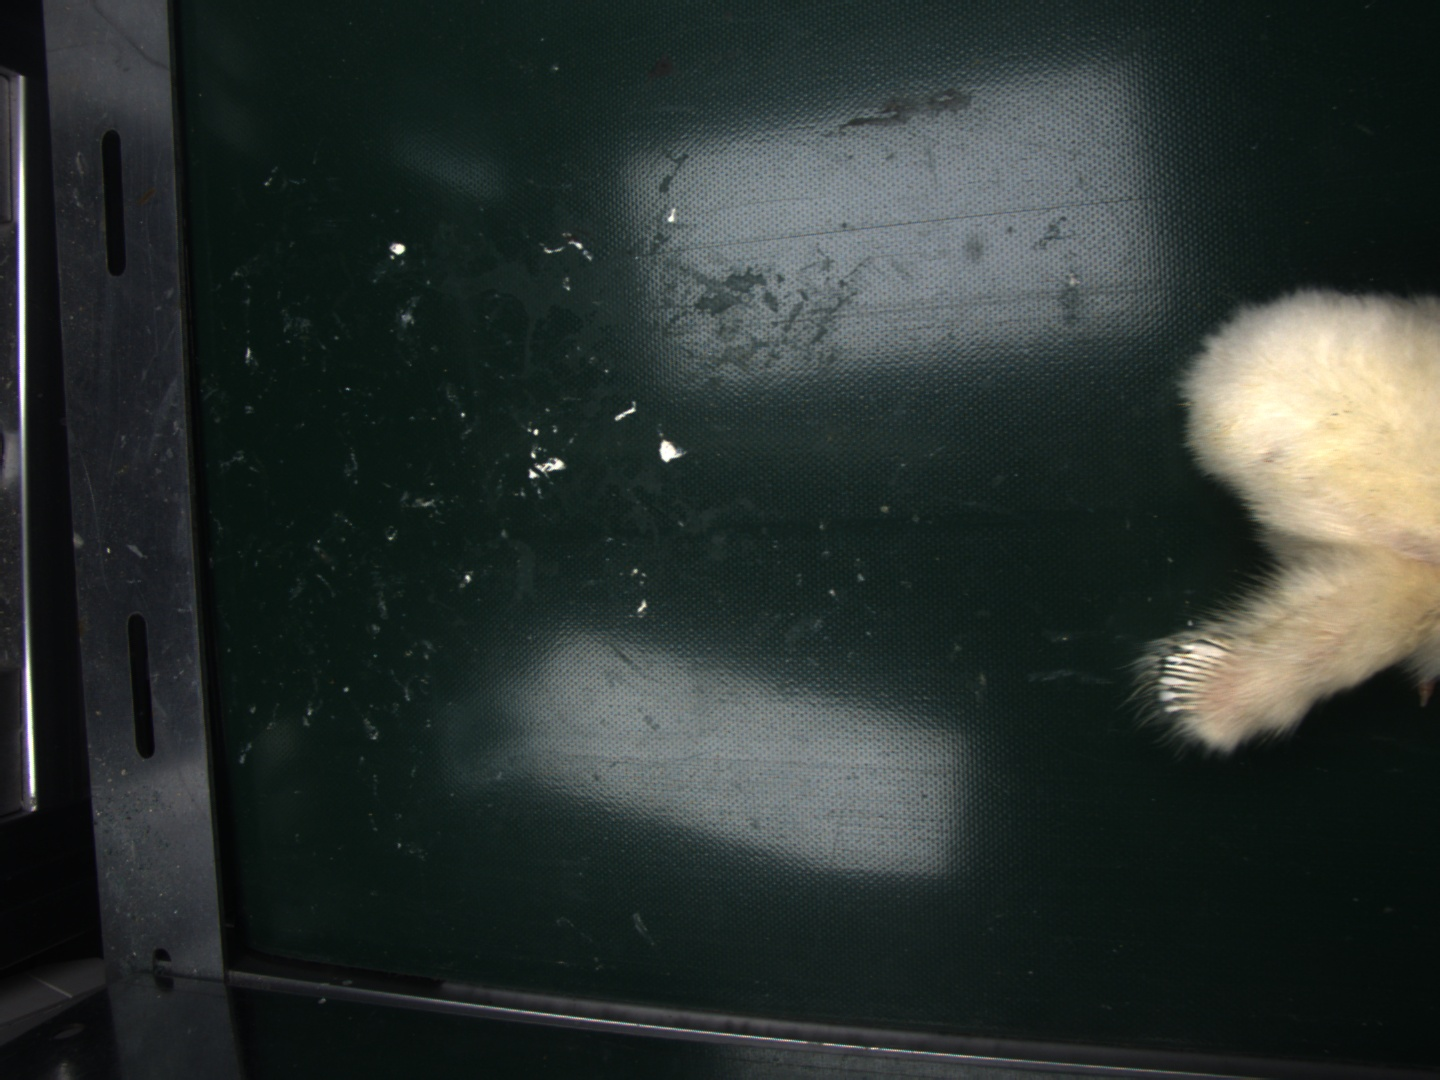male: (1155, 638, 1233, 727)
